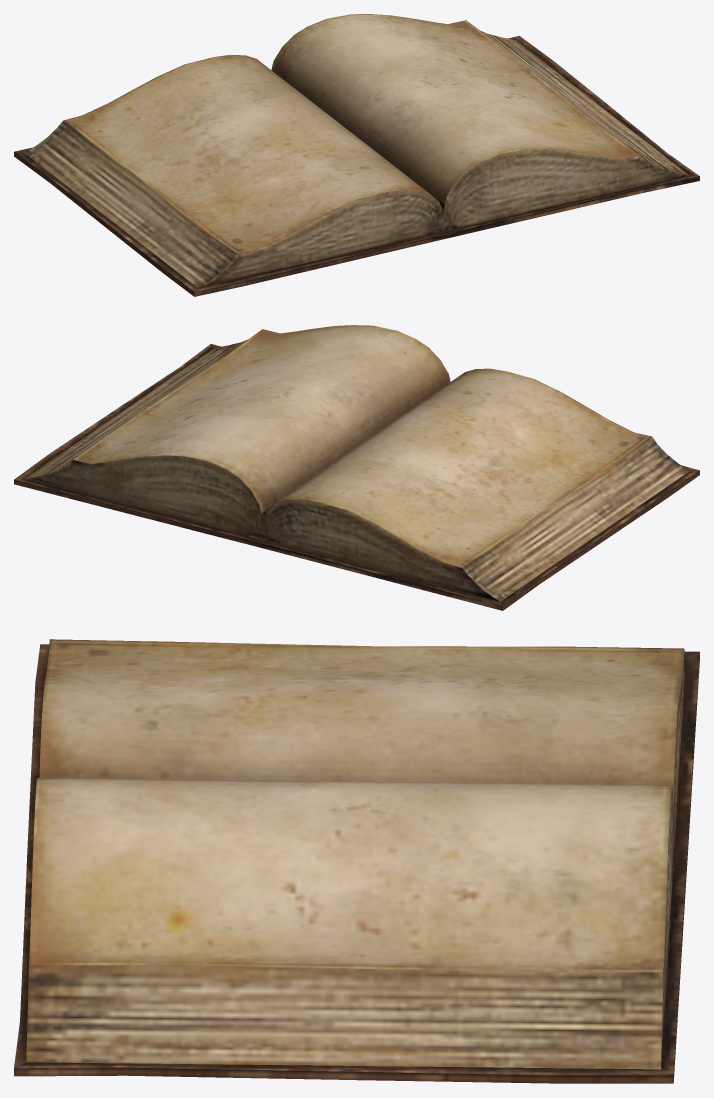
File: Bookopen.fbx
3 views of the same model, one above another, from view 1: azimuth 30°, elevation 25°; view 2: azimuth 150°, elevation 25°; view 3: azimuth 270°, elevation 25° (orthographic). The views are drawn at different scales.
Visible parts, largest first — view 1: LODGroup_1_MainMesh_1_SubMesh_1; view 2: LODGroup_1_MainMesh_1_SubMesh_1; view 3: LODGroup_1_MainMesh_1_SubMesh_1.
Part boxes in pixels (x1,y1,x2,y2): LODGroup_1_MainMesh_1_SubMesh_1: (14,14,699,296); LODGroup_1_MainMesh_1_SubMesh_1: (14,325,699,610); LODGroup_1_MainMesh_1_SubMesh_1: (14,639,699,1083).
Size of the model in its own units: 38.39 by 5.04 by 25.81.
